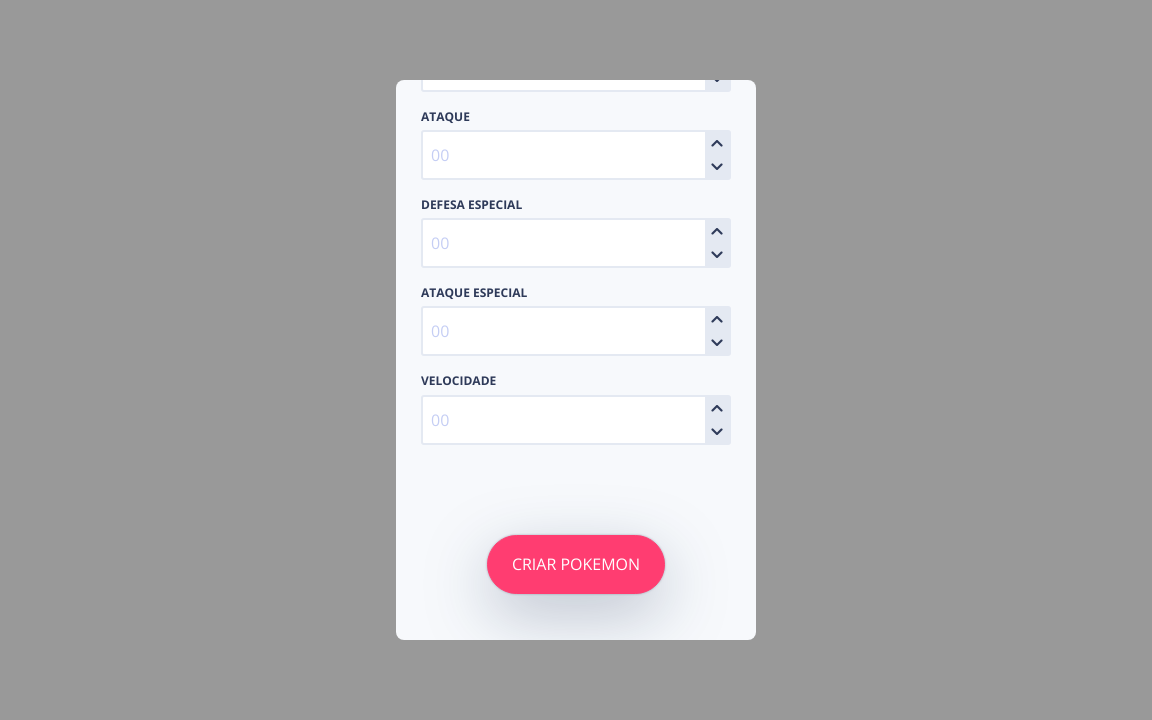
it: Testing component <Modal.Create /> › Should show errors
(page scrolled)
Click the button "CRIAR POKEMON".
click(576, 564)  # box [487,535,665,594]
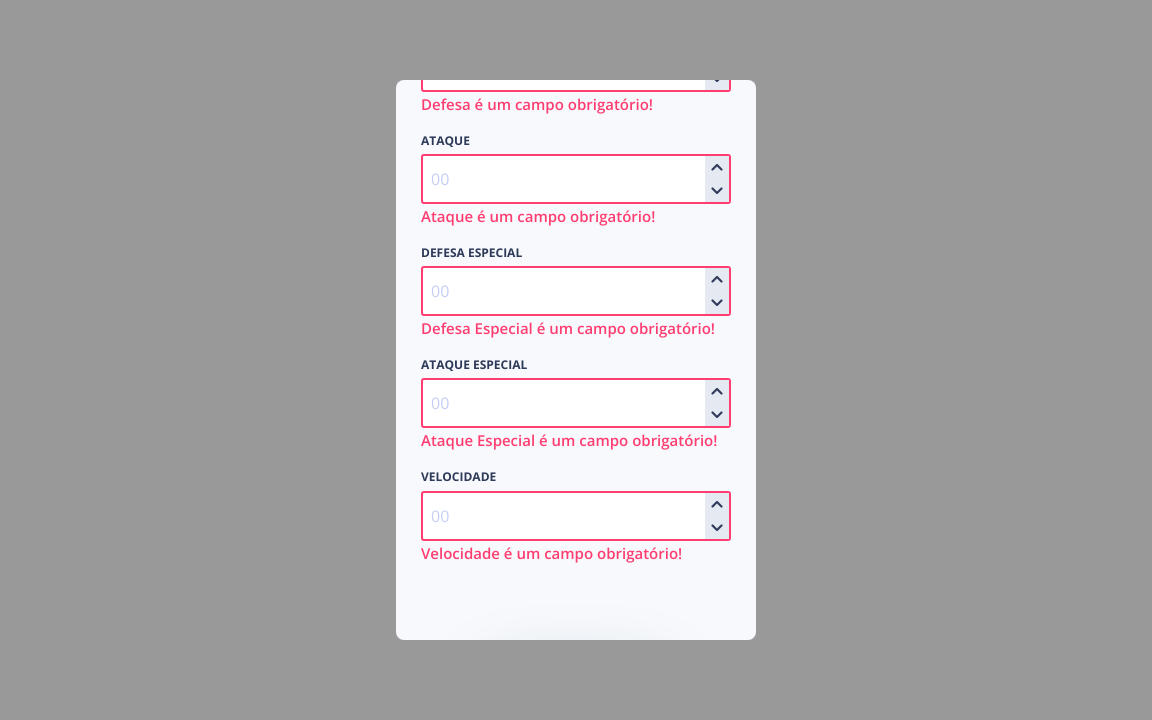
expect the text "Defesa é um campo obrigatório!" is shown: met, box [421,94,653,114]
expect the text "Ataque é um campo obrigatório!" is shown: met, box [421,206,655,226]
expect the text "Defesa Especial é um campo obrigatório!" is shown: met, box [421,316,731,340]
